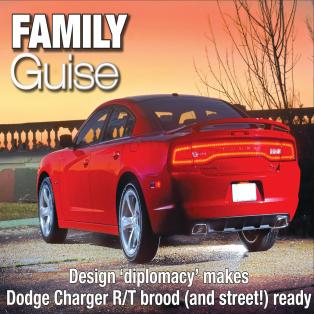Auto: (35, 90, 302, 268)
